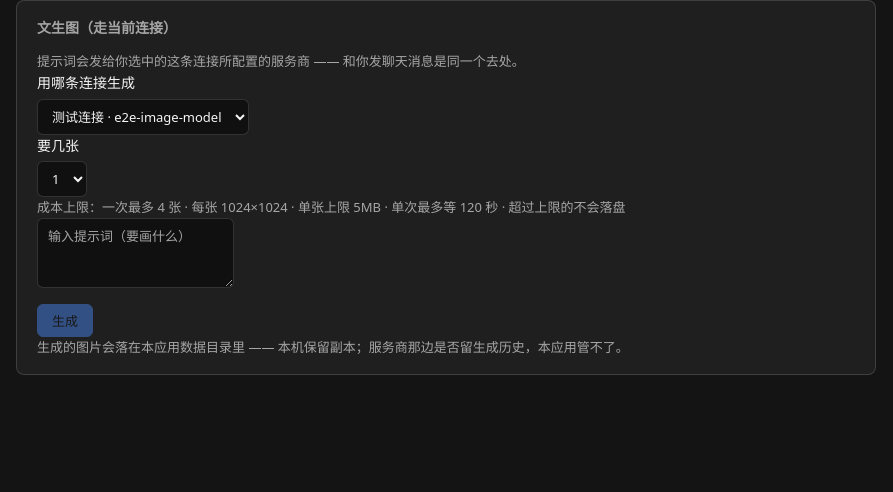
Test case: 文生图面板：回执与失败（R51 S1） › 失败：显示的是"为什么不行"，不是"生成成功"
This screenshot has width=893, height=492.
In the text box labelled "提示词": (136, 253) x1=37 y1=218 x2=234 y2=288, type "一只猫"
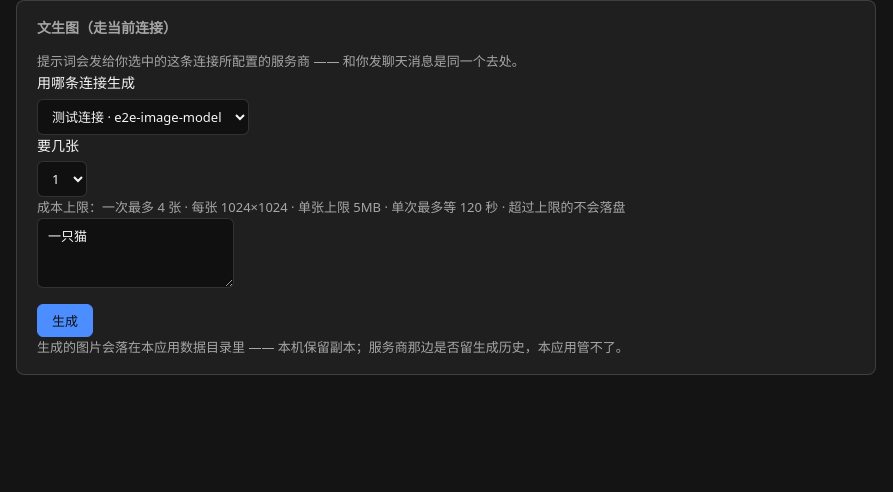
Click the button "生成": (65, 321) x1=37 y1=304 x2=93 y2=337
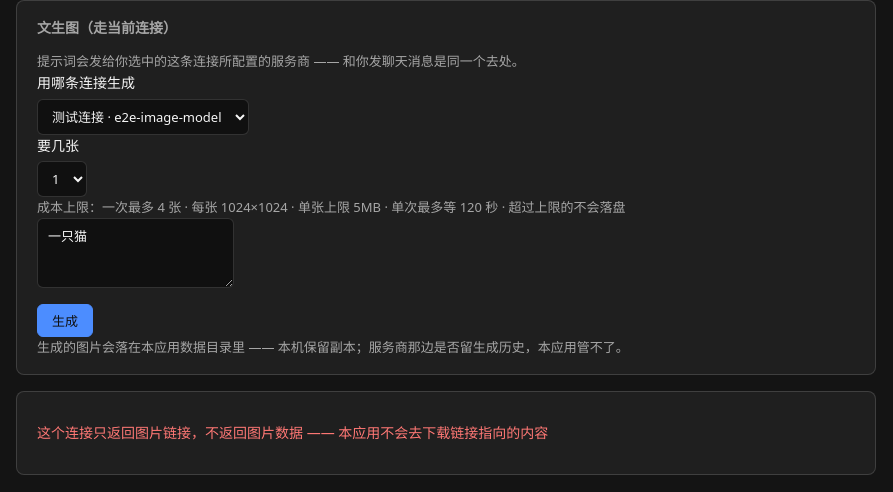
Check: the text "只返回图片链接" is shown, box x1=37 y1=423 x2=548 y2=442
